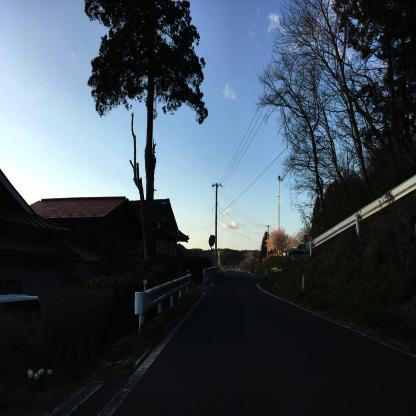Someiyoshino: (258, 221, 299, 259)
